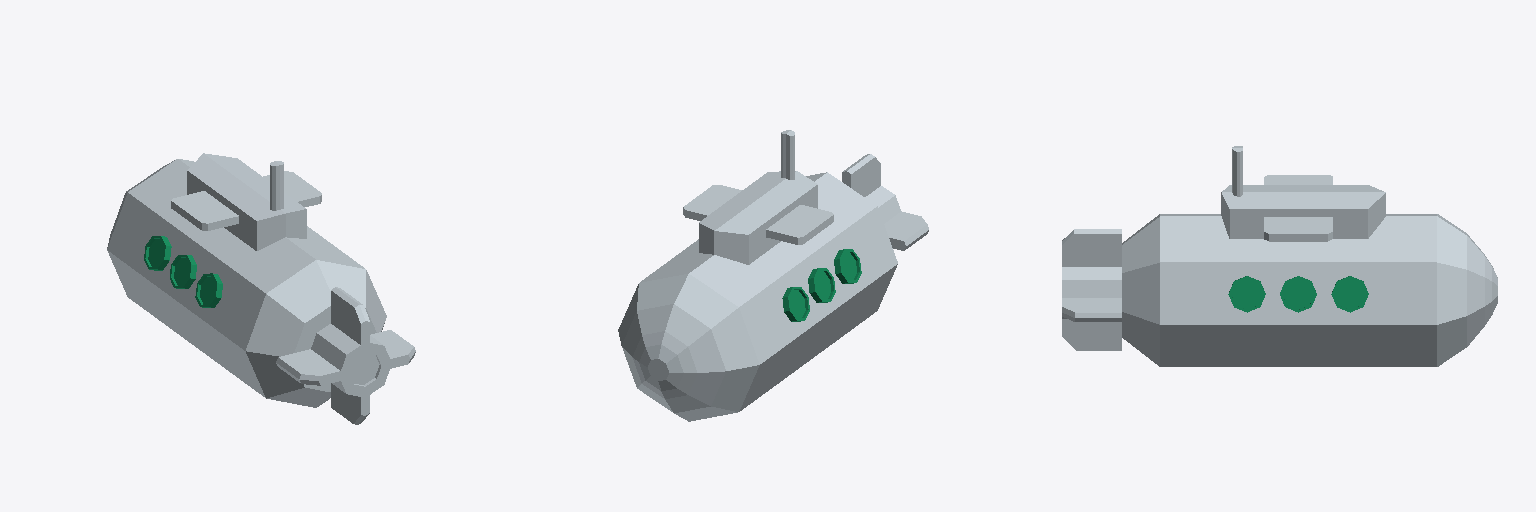
Rendered from submarine.obj.
The picture shows the model from 3 angles: view 1: azimuth 30°, elevation 25°; view 2: azimuth 150°, elevation 25°; view 3: azimuth 270°, elevation 25°; orthographic projection.
Visible parts, largest first — view 1: Cylinder; view 2: Cylinder; view 3: Cylinder.
Part boxes in pixels (bbox=[...]): Cylinder: bbox=[107, 153, 415, 424]; Cylinder: bbox=[618, 130, 928, 421]; Cylinder: bbox=[1062, 146, 1497, 366].
Bounding box in the file's own units: 2.04 × 2.92 × 5.33.